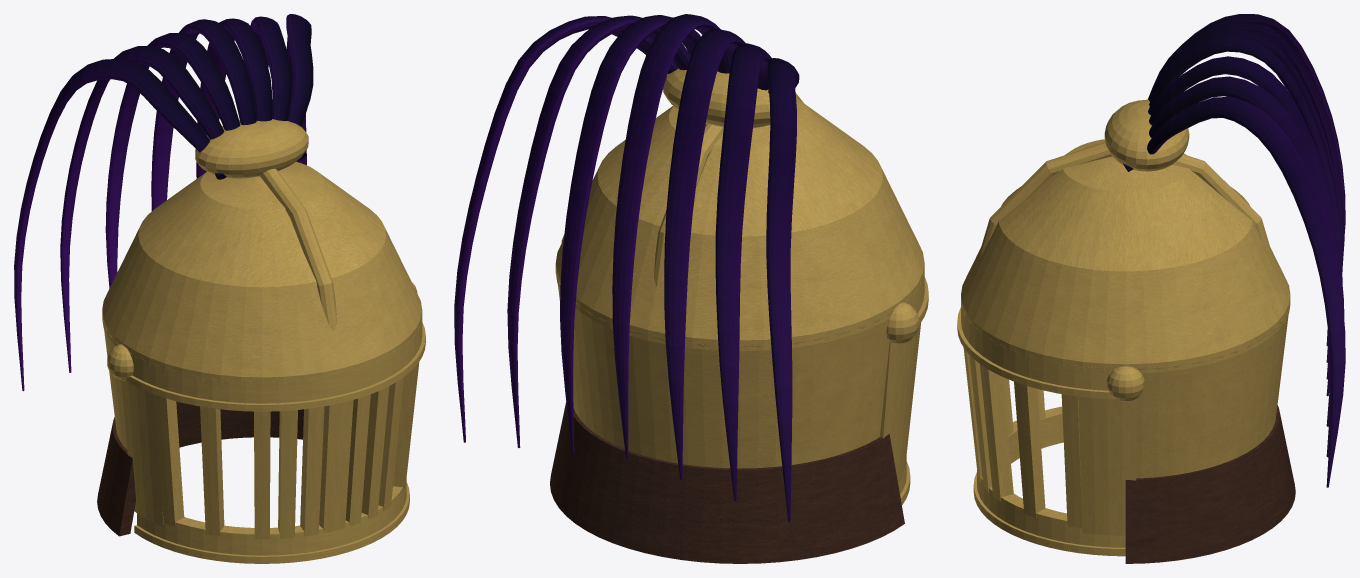
The model's file is magic.obj.
3 renders of one model, left to right at view 1: azimuth 30°, elevation 25°; view 2: azimuth 150°, elevation 25°; view 3: azimuth 270°, elevation 25°, orthographic. The views are drawn at different scales.
Parts seen in each view (by area): view 1: hollow_crown, plume_0, brow, lower_visor, plume_1, plume_2, neck_curtain, plume_mount, plume_3, left_cheek, visor_bar_3, crown_ridge (+16 smaller); view 2: hollow_crown, neck_curtain, rear_shell, plume_1, plume_2, plume_0, plume_3, plume_4, plume_5, plume_6, left_cheek, plume_mount (+2 smaller); view 3: hollow_crown, rear_shell, neck_curtain, plume_6, right_cheek, plume_5, lower_visor, plume_4, plume_3, crown_ridge, plume_mount, brow (+11 smaller).
Boxes of the visible parts, x1,y1,x2,y2 form: hollow_crown: [102, 161, 422, 386]; plume_0: [14, 58, 226, 391]; brow: [129, 315, 422, 403]; lower_visor: [137, 478, 406, 555]; plume_1: [60, 45, 224, 372]; plume_2: [105, 33, 240, 288]; neck_curtain: [97, 403, 303, 536]; plume_mount: [195, 119, 308, 178]; plume_3: [151, 19, 256, 210]; left_cheek: [118, 344, 163, 527]; visor_bar_3: [319, 400, 353, 533]; crown_ridge: [259, 168, 337, 330]; hollow_crown: [555, 98, 924, 351]; neck_curtain: [550, 402, 904, 563]; rear_shell: [556, 270, 892, 468]; plume_1: [715, 43, 771, 500]; plume_2: [664, 28, 745, 479]; plume_0: [766, 58, 799, 521]; plume_3: [612, 14, 730, 458]; plume_4: [560, 15, 700, 453]; plume_5: [507, 15, 690, 447]; plume_6: [454, 16, 678, 442]; left_cheek: [879, 285, 919, 483]; plume_mount: [663, 68, 770, 128]; hollow_crown: [961, 139, 1290, 373]; rear_shell: [1136, 304, 1289, 478]; neck_curtain: [1125, 405, 1295, 563]; plume_6: [1123, 97, 1345, 487]; right_cheek: [1077, 366, 1137, 535]; plume_5: [1149, 76, 1344, 457]; lower_visor: [977, 406, 1125, 547]; plume_4: [1149, 56, 1342, 426]; plume_3: [1148, 36, 1342, 396]; crown_ridge: [977, 142, 1274, 261]; plume_mount: [1104, 99, 1189, 171]; brow: [961, 301, 1114, 390].
Size of the model in its own units: 80.55 by 111 by 86.21.
Materials: 4 (4 with a texture image).
